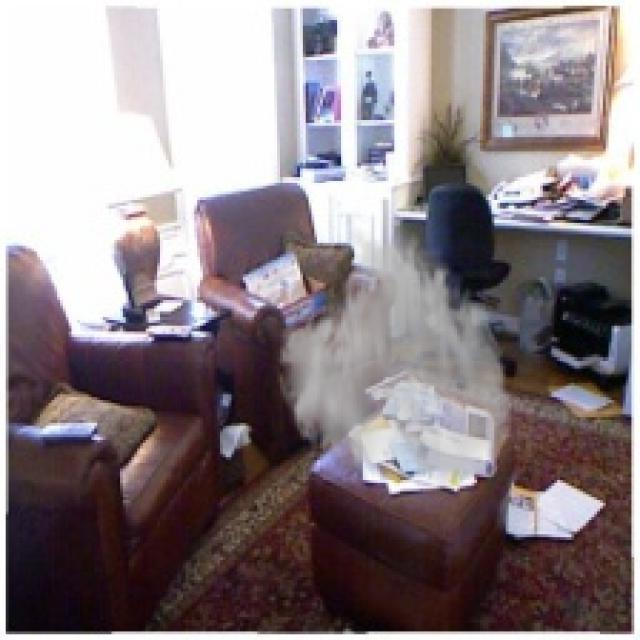Smoke: (274, 223, 514, 492)
